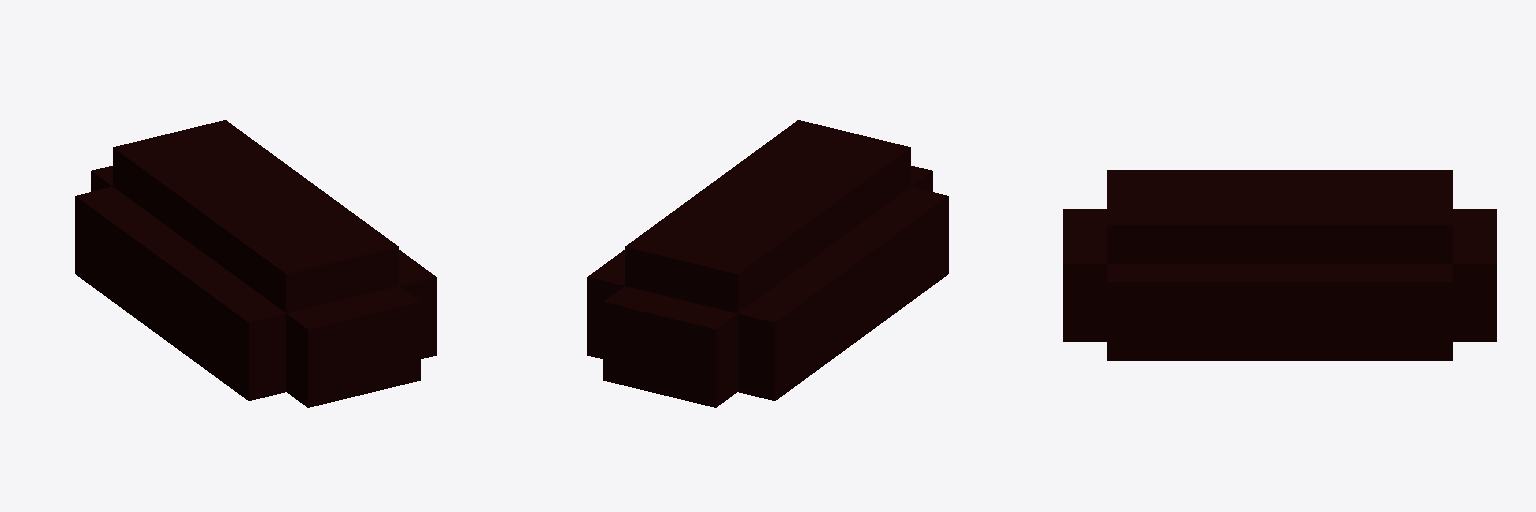
The model's file is rightFoot.obj.
3 views of the same model, side by side, from view 1: azimuth 30°, elevation 25°; view 2: azimuth 150°, elevation 25°; view 3: azimuth 270°, elevation 25° (orthographic).
Visible parts, largest first — view 1: rightFoot_Cube.096; view 2: rightFoot_Cube.096; view 3: rightFoot_Cube.096.
Boxes of the visible parts, box(x1,y1,x2,y2) form: rightFoot_Cube.096: box(75, 120, 436, 407); rightFoot_Cube.096: box(587, 120, 948, 407); rightFoot_Cube.096: box(1063, 170, 1496, 360).
Size of the model in its own units: 5 by 3 by 10.